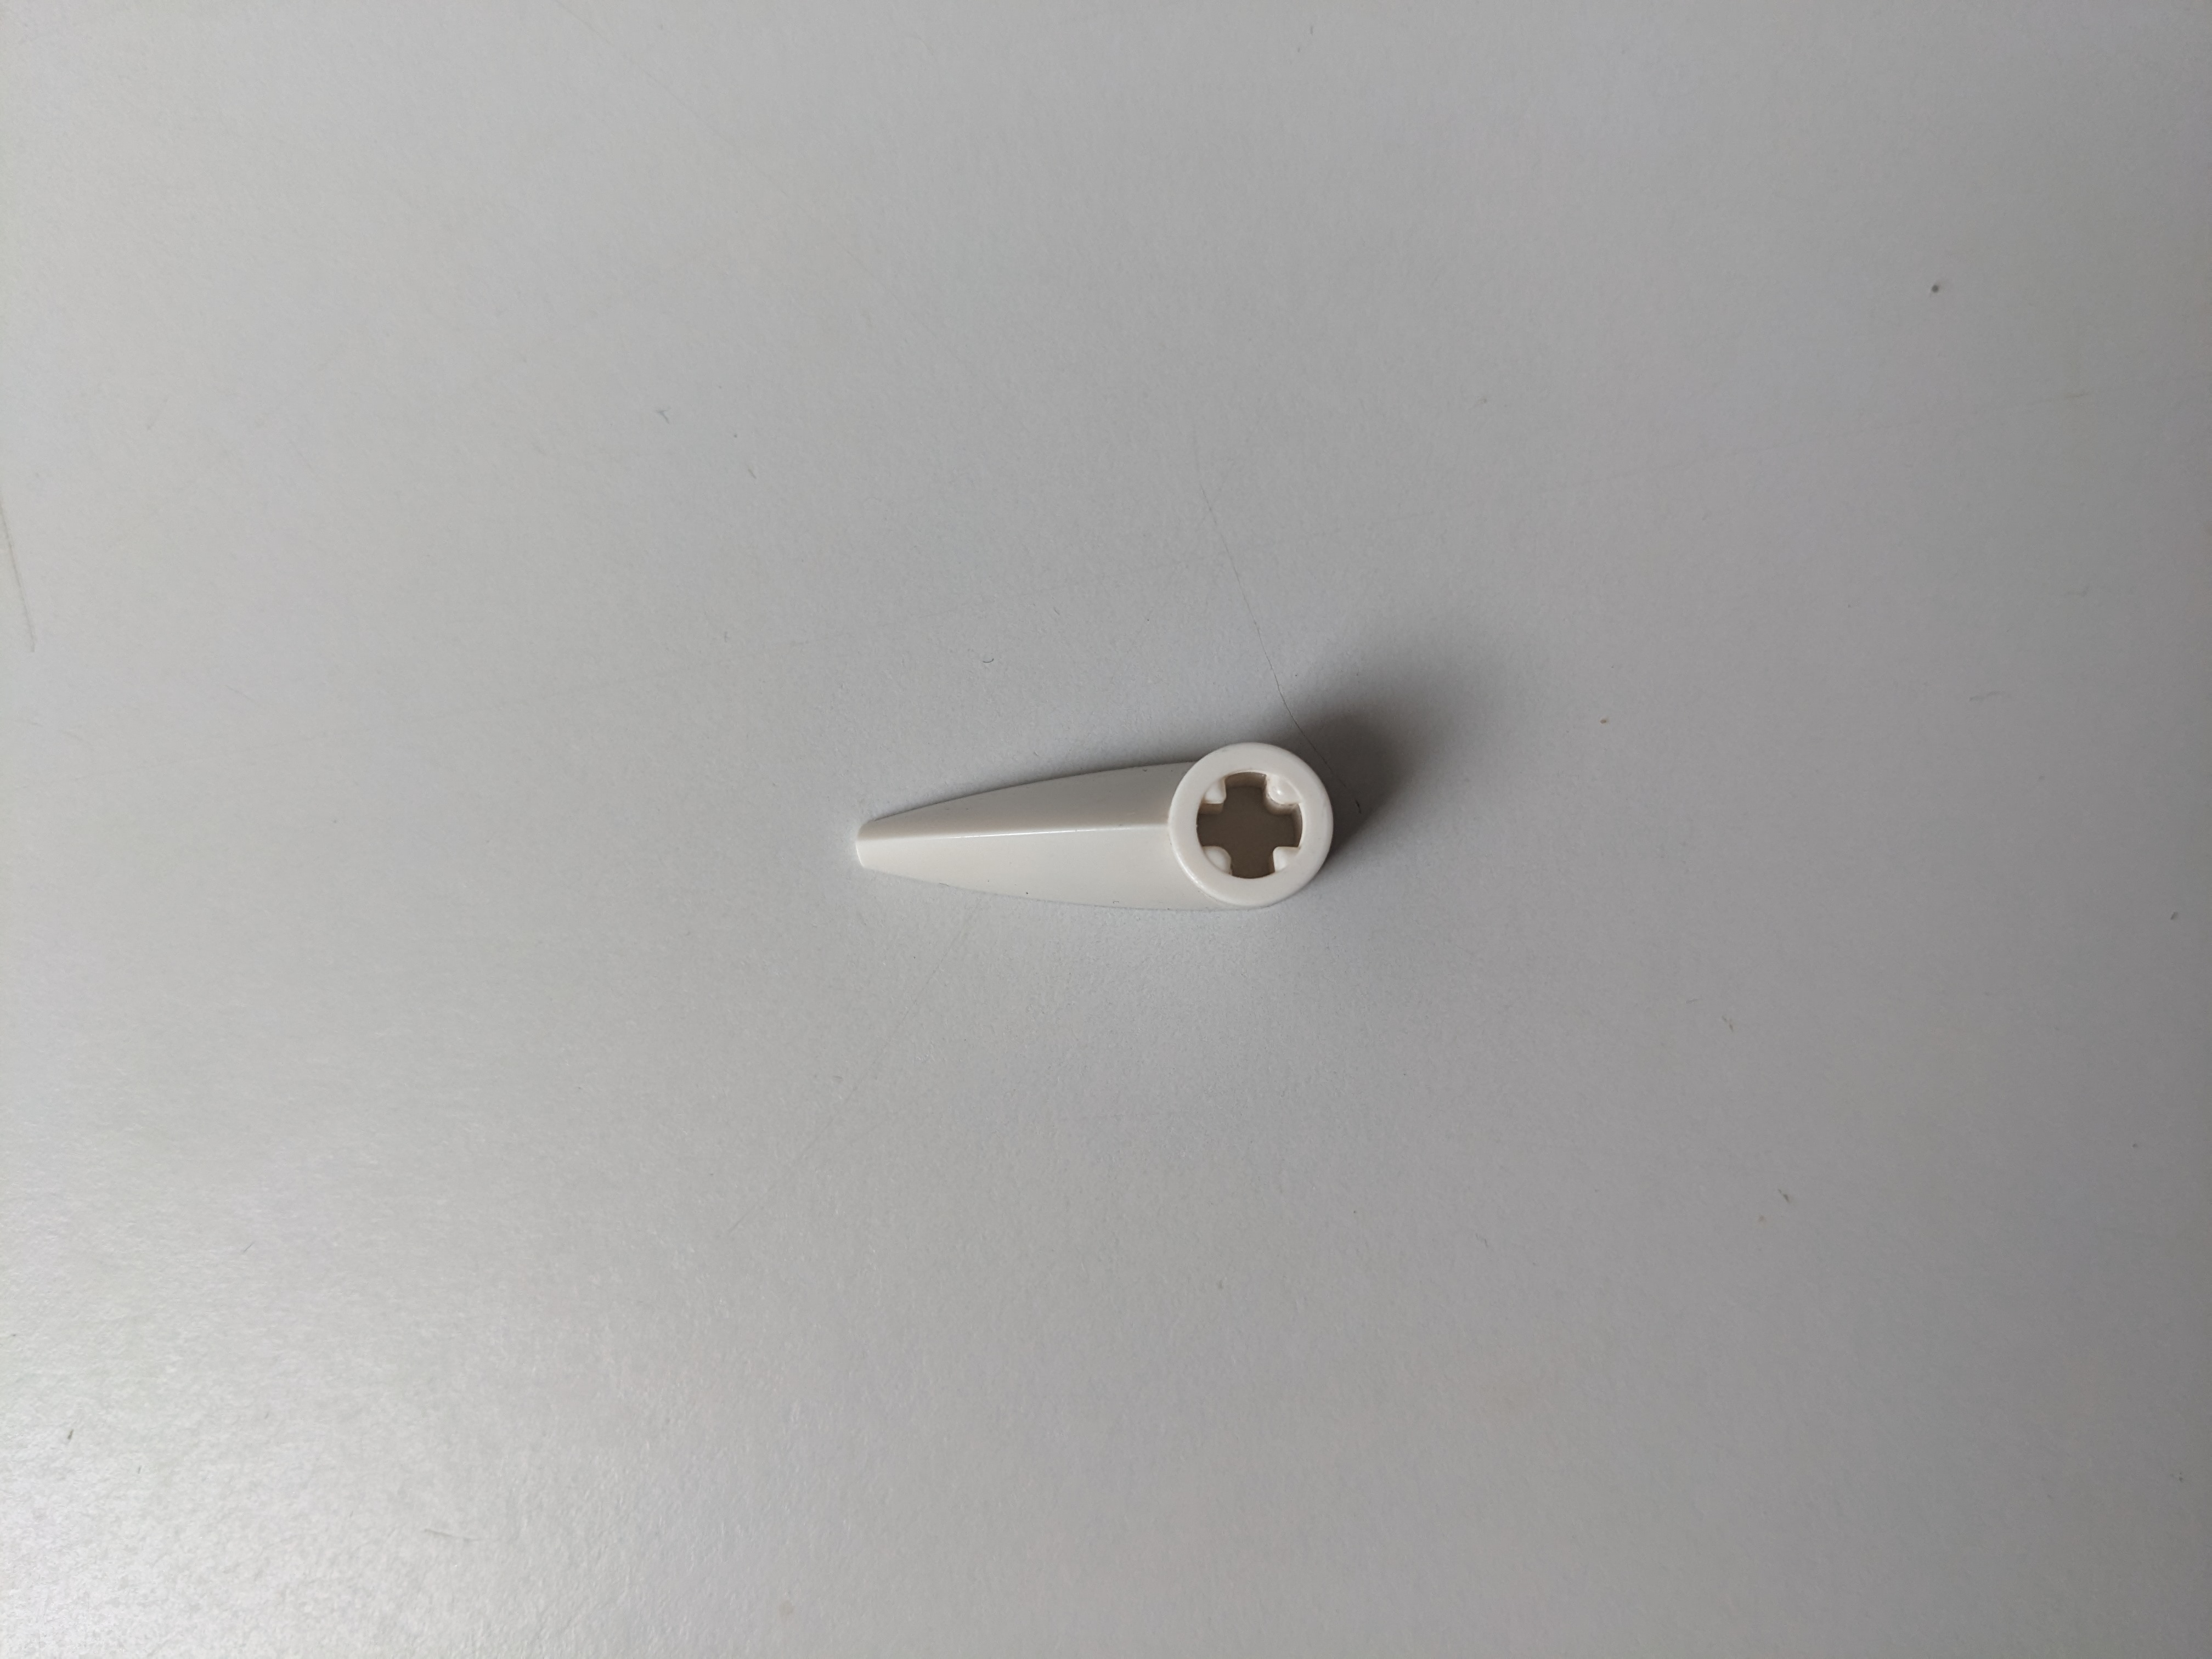Kappe: (845, 725, 1348, 925)
